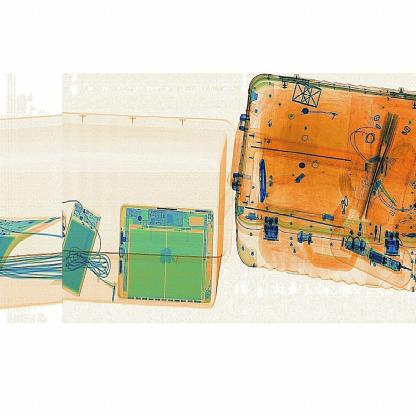knife: (254, 151, 279, 208)
